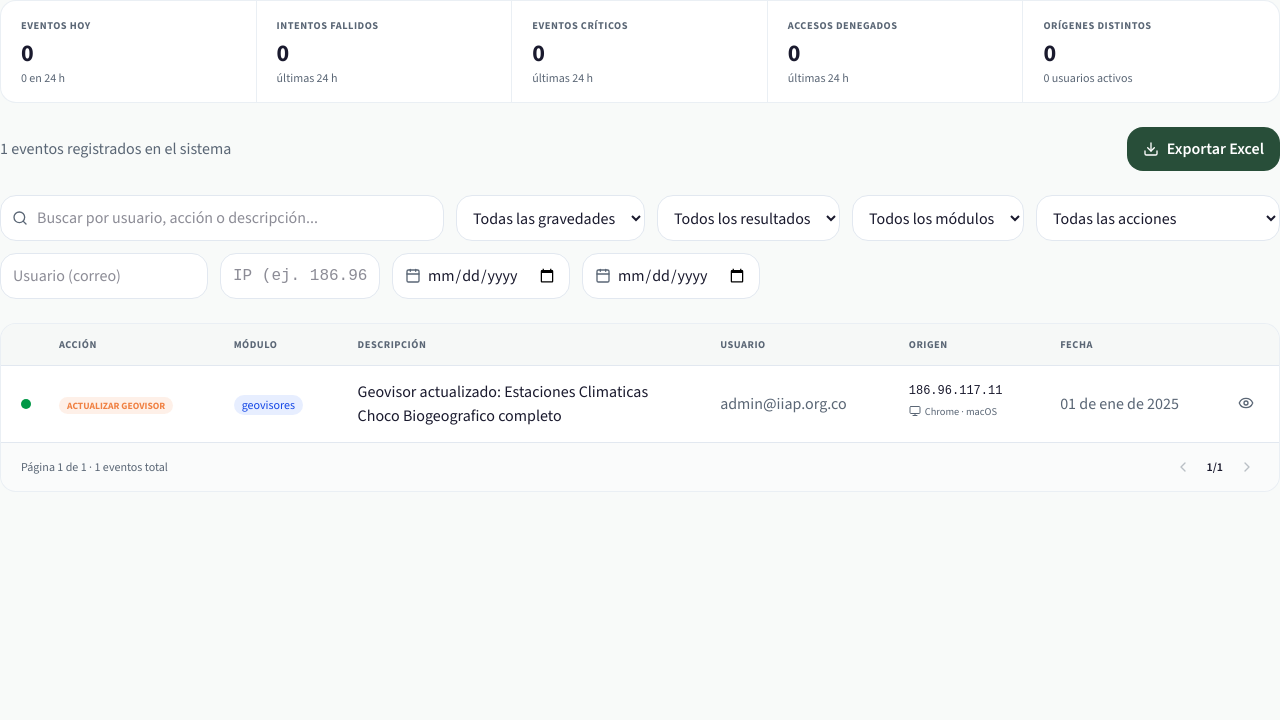
AuditoriaTab — detalle del evento › el ojo abre un panel con la descripción completa, el dispositivo y el recurso
This screenshot has width=1280, height=720.
Click the button named "Ver detalle de Actualizar geovisor": point(1246, 403) [1232,389,1260,417]
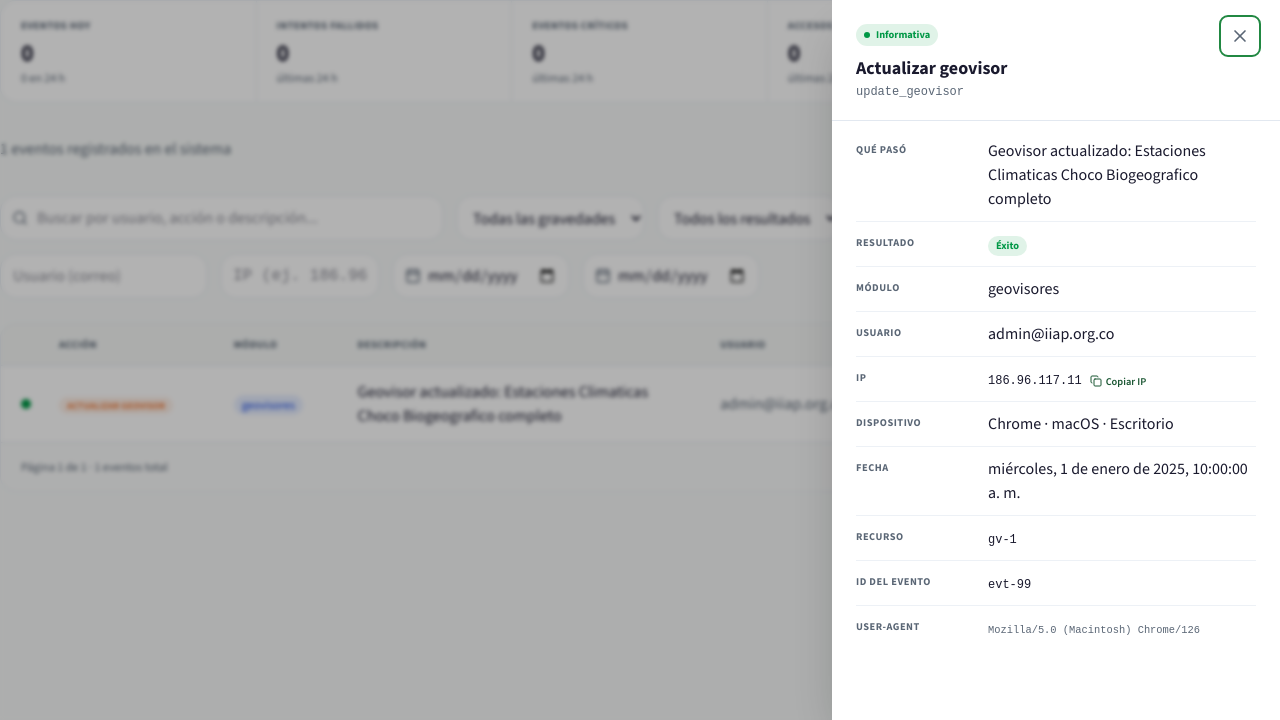
expect the text "Estaciones Climaticas Choco Biogeografico completo" is shown: met, box [988,140,1206,209]
expect the text "Chrome · macOS · Escritorio" is shown: met, box [988,413,1174,434]
expect the text "gv-1" is shown: met, box [988,533,1017,547]
